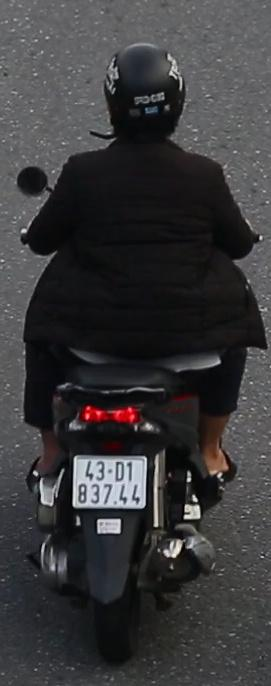LP: (70, 450, 149, 514)
helmet: (99, 40, 185, 159)
